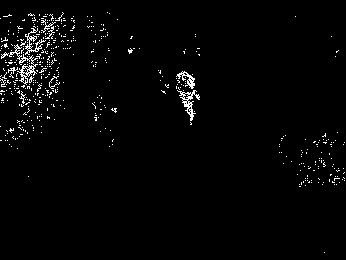person: (173, 69, 199, 125)
